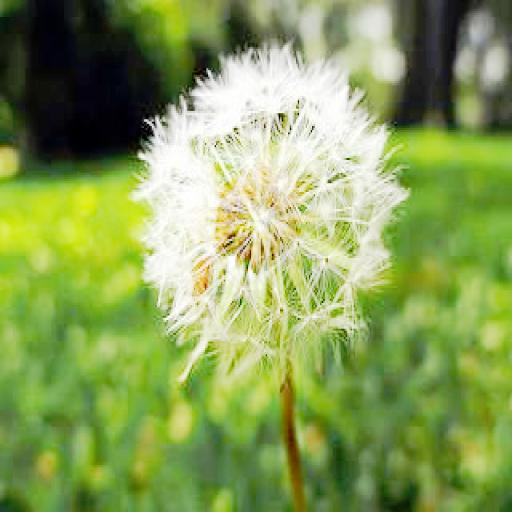dandelion: (139, 43, 392, 371)
